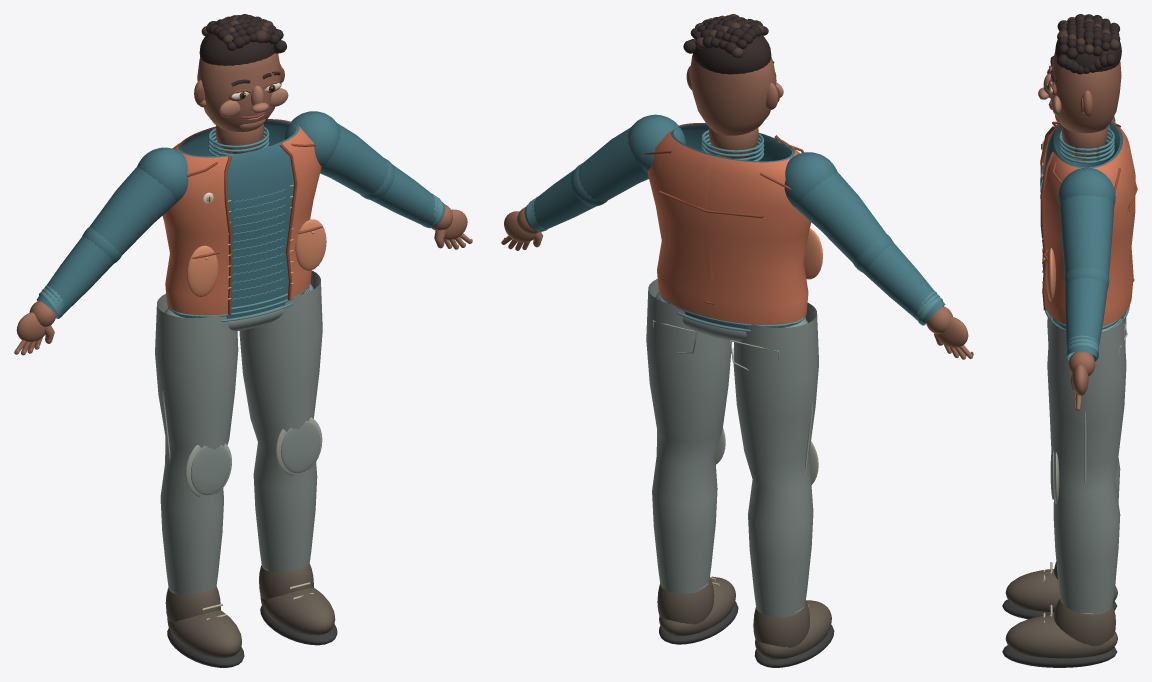
The picture shows the model from 3 angles, left to right: view 1: azimuth 30°, elevation 25°; view 2: azimuth 150°, elevation 25°; view 3: azimuth 270°, elevation 25°; orthographic projection. The views are drawn at different scales.
Parts seen in each view (by area): view 1: left shaped canvas trouser leg, right shaped canvas trouser leg, knitted sweater body, left weather shell panel, left upper sweater sleeve, head broad cheekbones and jaw, right weather shell panel, right upper sweater sleeve, left forearm sweater sleeve, left boot toe, right boot toe, right forearm sweater sleeve (+13 smaller); view 2: left shaped canvas trouser leg, right shaped canvas trouser leg, left weather shell panel, right weather shell panel, head broad cheekbones and jaw, left upper sweater sleeve, right upper sweater sleeve, left forearm sweater sleeve, right forearm sweater sleeve, close cropped hair cap, left rounded shoulder, left boot upper (+10 smaller); view 3: right shaped canvas trouser leg, right weather shell panel, right upper sweater sleeve, head broad cheekbones and jaw, right boot toe, right forearm sweater sleeve, left boot toe, right boot upper, right rounded shoulder, right rubber sole, knitted sweater body, sweater ribbed collar (×4) (+13 smaller).
Boxes of the visible parts, left/top/right/bottom form: left shaped canvas trouser leg: left=155, top=293, right=238, bottom=594; right shaped canvas trouser leg: left=239, top=270, right=322, bottom=571; knitted sweater body: left=173, top=120, right=305, bottom=318; left weather shell panel: left=162, top=126, right=229, bottom=315; left upper sweater sleeve: left=89, top=166, right=175, bottom=254; head broad cheekbones and jaw: left=197, top=53, right=281, bottom=131; right weather shell panel: left=267, top=119, right=321, bottom=298; right upper sweater sleeve: left=320, top=123, right=388, bottom=195; left forearm sweater sleeve: left=36, top=236, right=113, bottom=318; left boot toe: left=167, top=610, right=241, bottom=657; right boot toe: left=260, top=587, right=335, bottom=635; right forearm sweater sleeve: left=371, top=165, right=445, bottom=227; left shaped canvas trouser leg: left=733, top=303, right=818, bottom=617; right shaped canvas trouser leg: left=646, top=279, right=731, bottom=593; left weather shell panel: left=707, top=137, right=811, bottom=324; right weather shell panel: left=647, top=123, right=713, bottom=317; head broad cheekbones and jaw: left=689, top=54, right=776, bottom=135; left upper sweater sleeve: left=797, top=171, right=886, bottom=262; right upper sweater sleeve: left=578, top=127, right=648, bottom=201; left forearm sweater sleeve: left=863, top=242, right=945, bottom=325; right forearm sweater sleeve: left=524, top=170, right=595, bottom=230; close cropped hair cap: left=693, top=34, right=771, bottom=74; left rounded shoulder: left=784, top=152, right=836, bottom=209; left boot upper: left=753, top=600, right=809, bottom=647; right shaped canvas trouser leg: left=1047, top=315, right=1126, bottom=615; right weather shell panel: left=1043, top=140, right=1135, bottom=326; right upper sweater sleeve: left=1059, top=195, right=1114, bottom=275; head broad cheekbones and jaw: left=1050, top=51, right=1121, bottom=133; right boot toe: left=1005, top=614, right=1117, bottom=658; right forearm sweater sleeve: left=1065, top=278, right=1107, bottom=361; left boot toe: left=1005, top=569, right=1117, bottom=612; right boot upper: left=1054, top=599, right=1115, bottom=645; right rounded shoulder: left=1058, top=167, right=1115, bottom=204; right rubber sole: left=1002, top=645, right=1117, bottom=667; knitted sweater body: left=1043, top=122, right=1122, bottom=329; sweater ribbed collar (×4): left=1059, top=127, right=1114, bottom=163.
Bounding box in the file's own units: 1.28 × 1.64 × 0.325.
